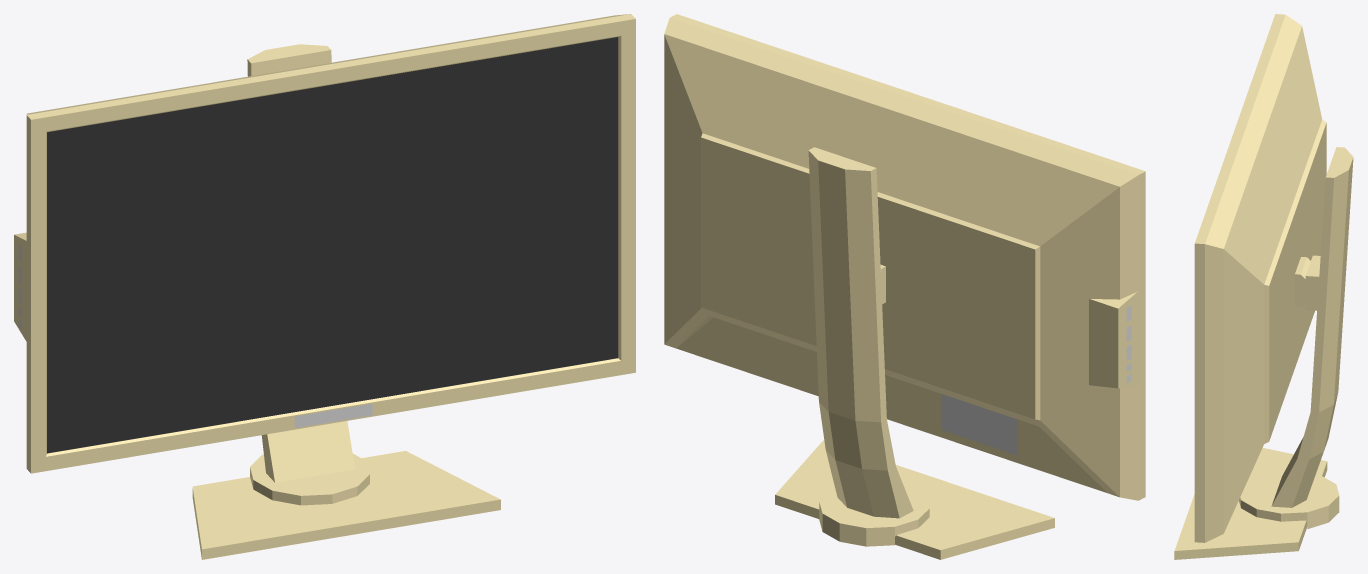
The model's file is screen.fbx.
3 renders of one model, left to right at view 1: azimuth 30°, elevation 25°; view 2: azimuth 150°, elevation 25°; view 3: azimuth 270°, elevation 25°, orthographic. The views are drawn at different scales.
Parts seen in each view (by area): view 1: Monitor_01_004_254; view 2: Monitor_01_004_254; view 3: Monitor_01_004_254.
Part boxes in pixels (x1,y1,x2,y2): Monitor_01_004_254: [14, 14, 635, 559]; Monitor_01_004_254: [664, 14, 1145, 559]; Monitor_01_004_254: [1174, 14, 1353, 559].
Bounding box in the file's own units: 71.17 × 54.36 × 23.4.
